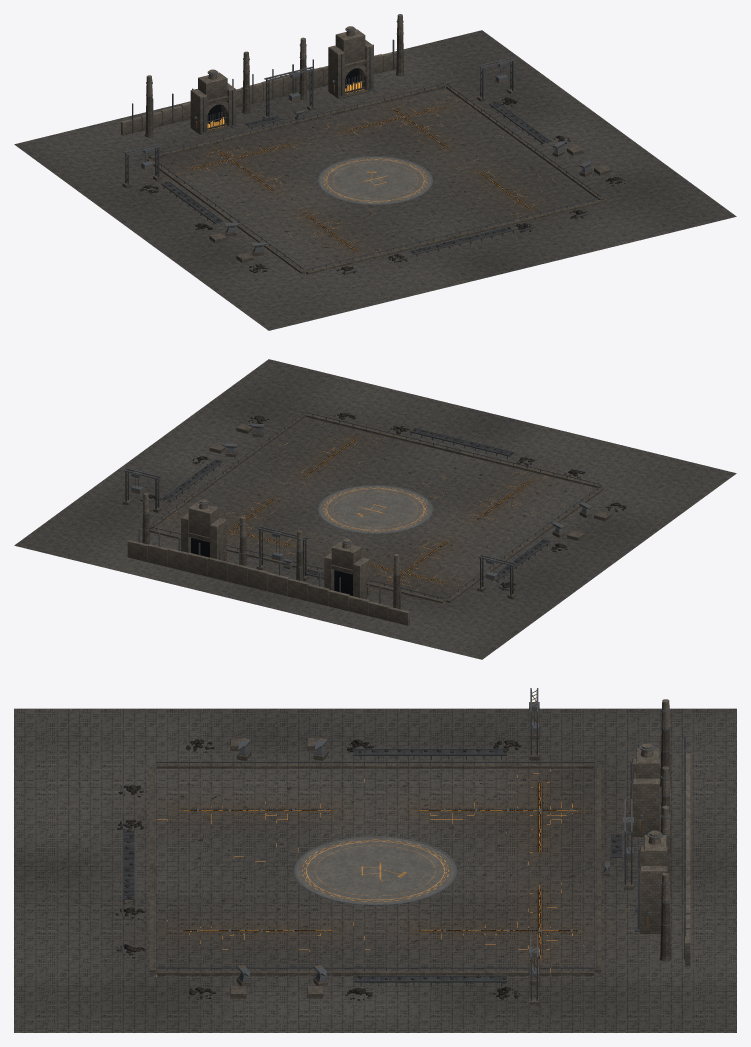
Rendered from foundry.glb.
The picture shows the model from 3 angles, top to bottom: view 1: azimuth 30°, elevation 25°; view 2: azimuth 150°, elevation 25°; view 3: azimuth 270°, elevation 25°; orthographic projection. The views are drawn at different scales.
Parts seen in each view (by area): view 1: FLOOR_FORGE, BOUNDS_BLAST_FURNACES, BOUNDS_SAFETY_RAIL, BOUNDS_CONVEYOR_WORKS, BOUNDS_SOUTH_SCRAP; view 2: FLOOR_FORGE, BOUNDS_BLAST_FURNACES, BOUNDS_SAFETY_RAIL, BOUNDS_CONVEYOR_WORKS, BOUNDS_SOUTH_SCRAP; view 3: FLOOR_FORGE, BOUNDS_BLAST_FURNACES, BOUNDS_SAFETY_RAIL, BOUNDS_CONVEYOR_WORKS, BOUNDS_SOUTH_SCRAP.
Part boxes in pixels (box(x1,y1,x2,y2)): FLOOR_FORGE: box(14, 30, 736, 330); BOUNDS_BLAST_FURNACES: box(121, 14, 404, 137); BOUNDS_SAFETY_RAIL: box(147, 83, 603, 274); BOUNDS_CONVEYOR_WORKS: box(122, 57, 625, 272); BOUNDS_SOUTH_SCRAP: box(336, 209, 588, 274); FLOOR_FORGE: box(14, 359, 736, 659); BOUNDS_BLAST_FURNACES: box(127, 493, 409, 625); BOUNDS_SAFETY_RAIL: box(149, 412, 603, 603); BOUNDS_CONVEYOR_WORKS: box(122, 415, 626, 599); BOUNDS_SOUTH_SCRAP: box(333, 412, 585, 478); FLOOR_FORGE: box(14, 708, 736, 1032); BOUNDS_BLAST_FURNACES: box(603, 699, 690, 965); BOUNDS_SAFETY_RAIL: box(149, 761, 601, 975); BOUNDS_CONVEYOR_WORKS: box(186, 688, 539, 1005); BOUNDS_SOUTH_SCRAP: box(115, 785, 147, 958).
Bounding box in the file's own units: 140 × 17.9 × 132.
Materials: 11 (4 with a texture image).
